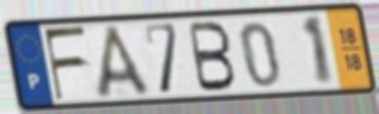0: (236, 19, 286, 89)
1: (300, 13, 335, 89)
7: (143, 21, 180, 96)
A: (94, 22, 156, 101)
B: (186, 20, 239, 95)
F: (41, 24, 89, 104)
